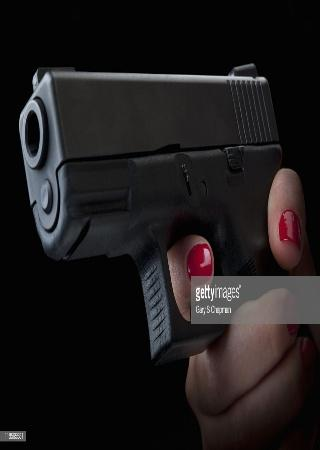handgun: (15, 53, 271, 352)
